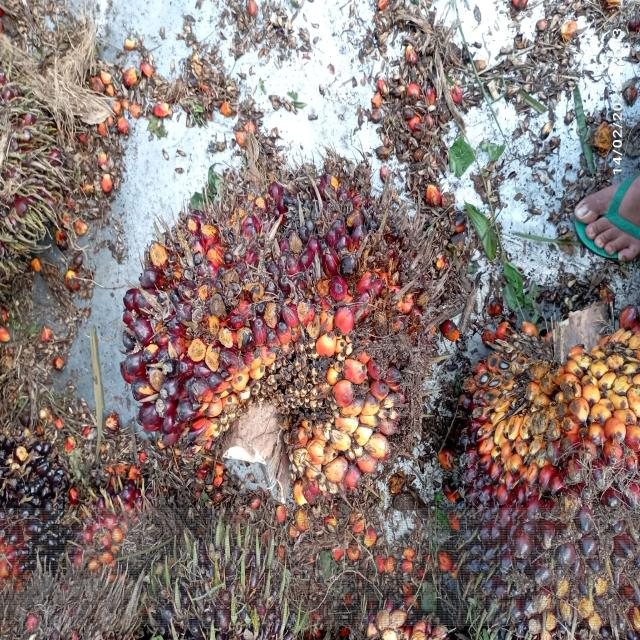fraksi 00: (445, 240, 639, 640)
fraksi 1: (110, 90, 442, 525)
